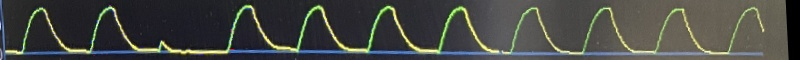normal_volume: (0, 0, 780, 60)
